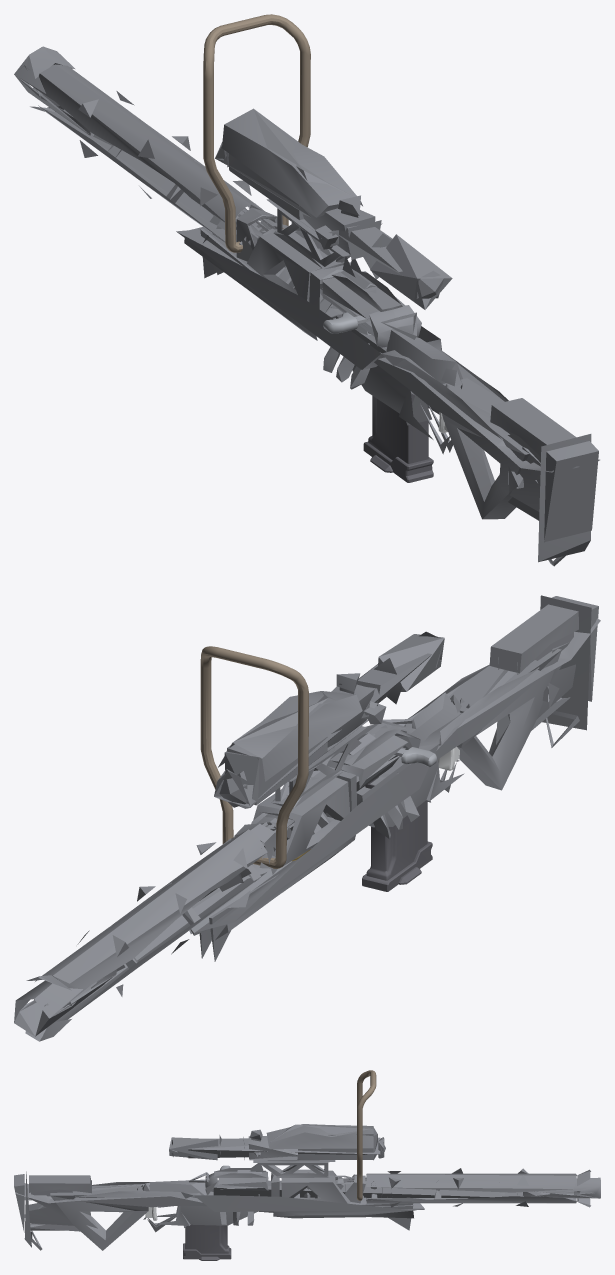
The model's file is WPN_SniperRifle.glb.
3 renders of one model, top to bottom at view 1: azimuth 30°, elevation 25°; view 2: azimuth 150°, elevation 25°; view 3: azimuth 270°, elevation 25°, orthographic. The views are drawn at different scales.
Visible parts, largest first — view 1: WPN_Sniper; view 2: WPN_Sniper; view 3: WPN_Sniper.
Boxes of the visible parts, x1=… form: WPN_Sniper: x1=14, y1=14, x2=599, y2=566; WPN_Sniper: x1=14, y1=595, x2=600, y2=1041; WPN_Sniper: x1=14, y1=1070, x2=600, y2=1260.
Bounding box in the file's own units: 0.1054 × 0.3078 × 0.9191.
